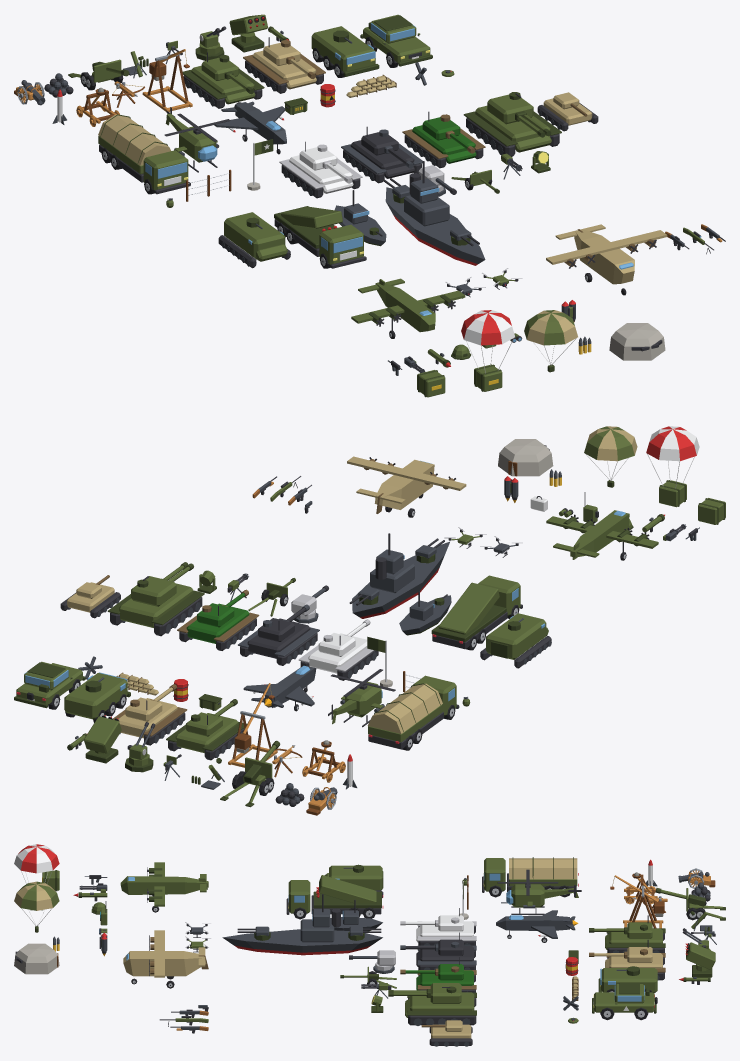
File: Military.fbx
The picture shows the model from 3 angles, top to bottom: view 1: azimuth 30°, elevation 25°; view 2: azimuth 150°, elevation 25°; view 3: azimuth 270°, elevation 25°; orthographic projection. The views are drawn at different scales.
Parts seen in each view (by area): view 1: MilitaryTruck, Battleship, CargoPlane, HeavyTank, Bomber, APC, MissileTruck, SupplyDrop, MilitaryJeep, ArmoredCar, JungleTank, WinterTank (+20 smaller); view 2: MilitaryTruck, Battleship, CargoPlane, HeavyTank, Bomber, APC, SupplyDrop, MissileTruck, MilitaryJeep, ArmoredCar, NightTank, JungleTank (+20 smaller); view 3: Battleship, MilitaryTruck, CargoPlane, Bomber, HeavyTank, MissileTruck, MilitaryJeep, FighterJet, Pillbox, AttackHelicopter, Parachute, MissileTruck_Launcher (+19 smaller).
Part boxes in pixels (box(x1,y1,x2,y2)): MilitaryTruck: box(98, 114, 190, 194); Battleship: box(385, 161, 485, 265); CargoPlane: box(546, 224, 667, 284); HeavyTank: box(463, 105, 561, 156); Bomber: box(351, 278, 465, 332); APC: box(218, 212, 290, 268); MissileTruck: box(274, 206, 366, 268); SupplyDrop: box(461, 310, 514, 391); MilitaryJeep: box(360, 14, 432, 66); ArmoredCar: box(311, 26, 379, 76); JungleTank: box(402, 125, 485, 168); WinterTank: box(279, 155, 362, 198); MilitaryTruck: box(367, 675, 459, 749); Battleship: box(352, 533, 449, 618); CargoPlane: box(347, 456, 466, 513); HeavyTank: box(107, 583, 204, 636); Bomber: box(546, 510, 658, 559); APC: box(480, 613, 551, 668); SupplyDrop: box(646, 426, 699, 507); MissileTruck: box(431, 575, 522, 649); MilitaryJeep: box(14, 661, 85, 708); ArmoredCar: box(64, 672, 130, 719); NightTank: box(238, 618, 319, 665); JungleTank: box(177, 603, 259, 650); Battleship: box(222, 894, 382, 955); MilitaryTruck: box(482, 857, 578, 892); CargoPlane: box(123, 930, 208, 977); Bomber: box(120, 862, 208, 906); HeavyTank: box(405, 992, 476, 1025); MissileTruck: box(286, 880, 383, 914); MilitaryJeep: box(592, 983, 657, 1013); FighterJet: box(496, 910, 578, 938); Pillbox: box(14, 943, 59, 974); AttackHelicopter: box(501, 884, 578, 914); Parachute: box(14, 881, 59, 932); MissileTruck_Launcher: box(316, 875, 376, 903).
Bounding box in the file's own units: 57.99 × 9.85 × 106.
1 material, 1 textured.
